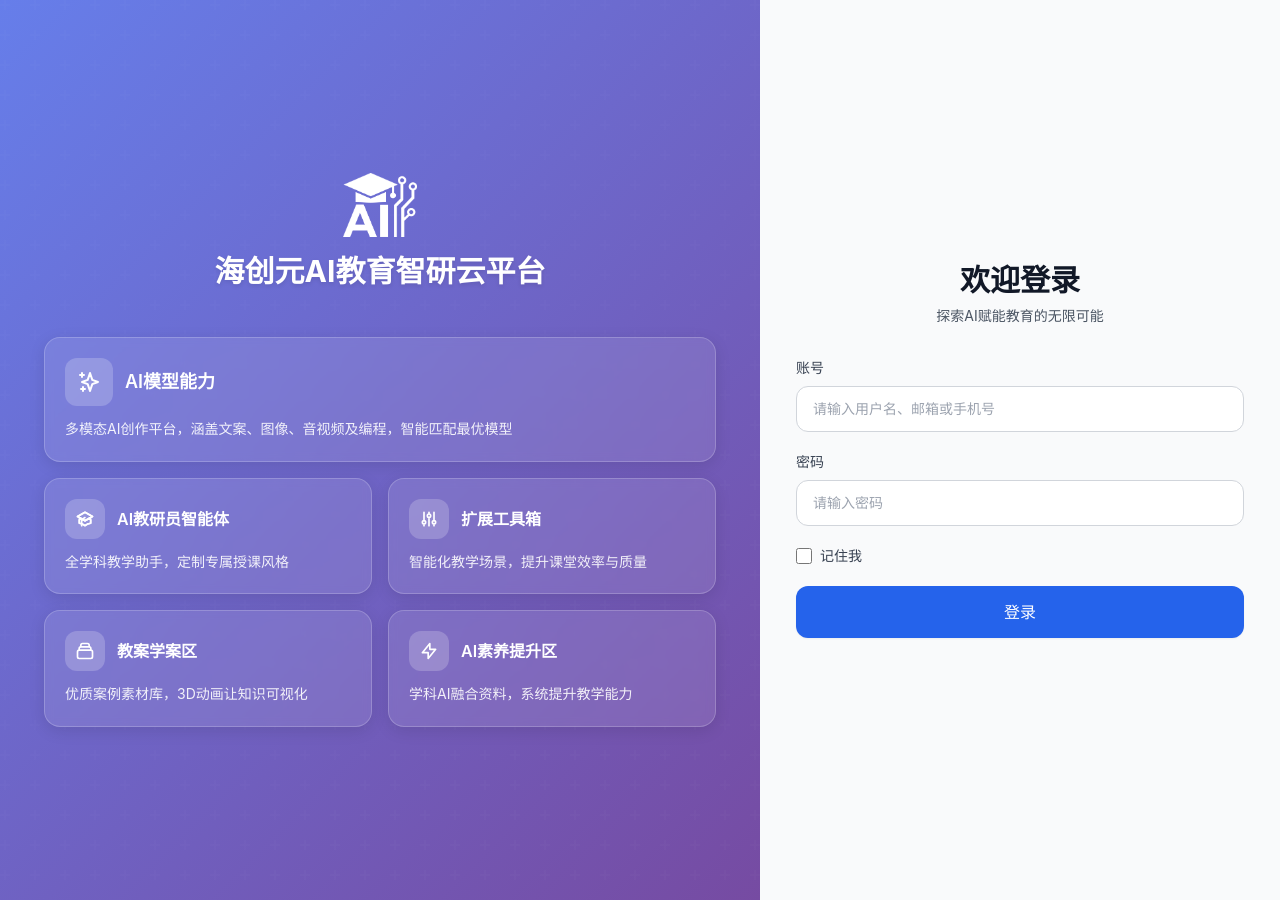
Scenario: LoginPage › 表单验证 - 密码 › 应该在密码少于6位时显示错误
Step 1. Type "12345" into the password field labelled "密码" → [1020, 503], box [796,480,1244,526]
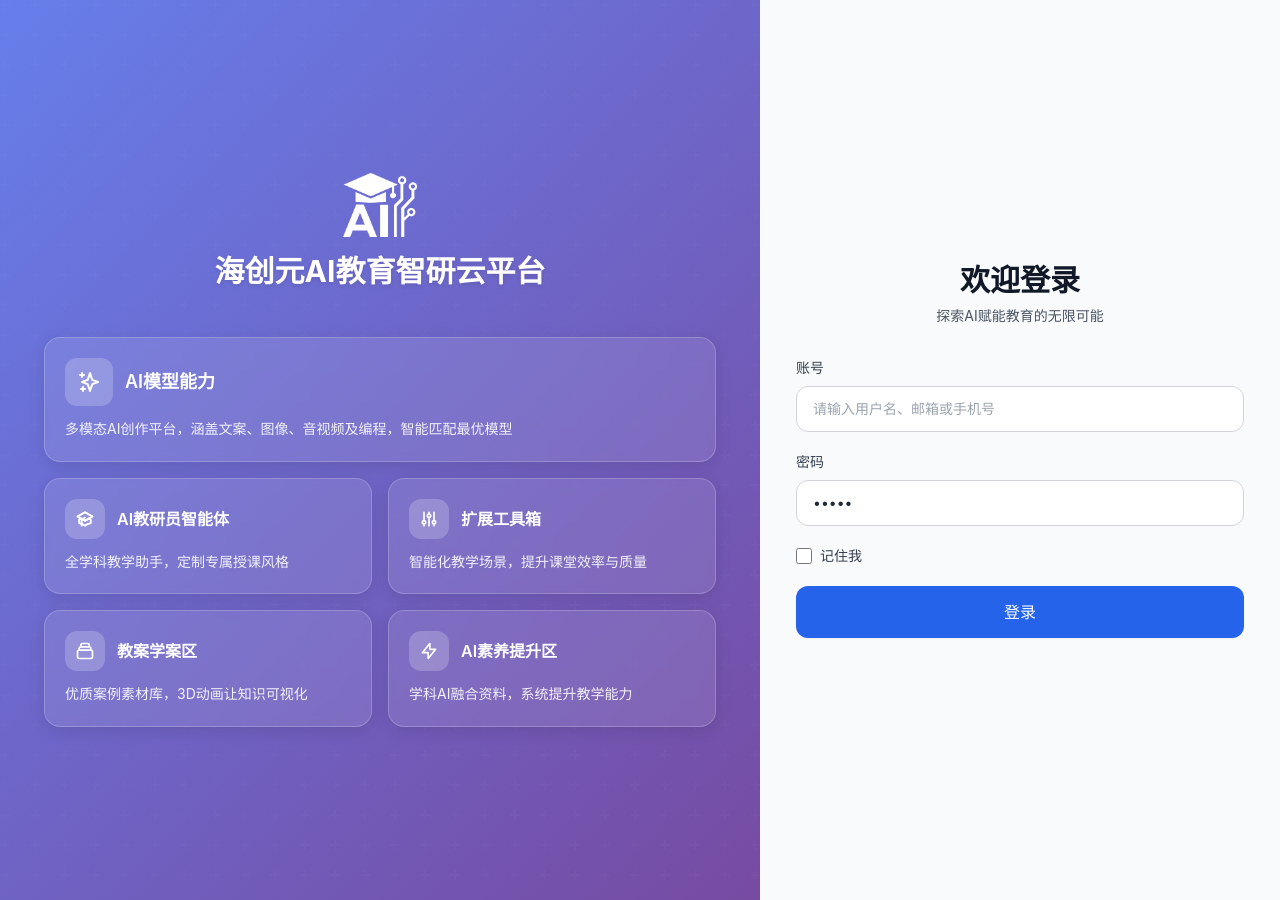
Step 2. Leave the password field labelled "密码", box [796,480,1244,526]
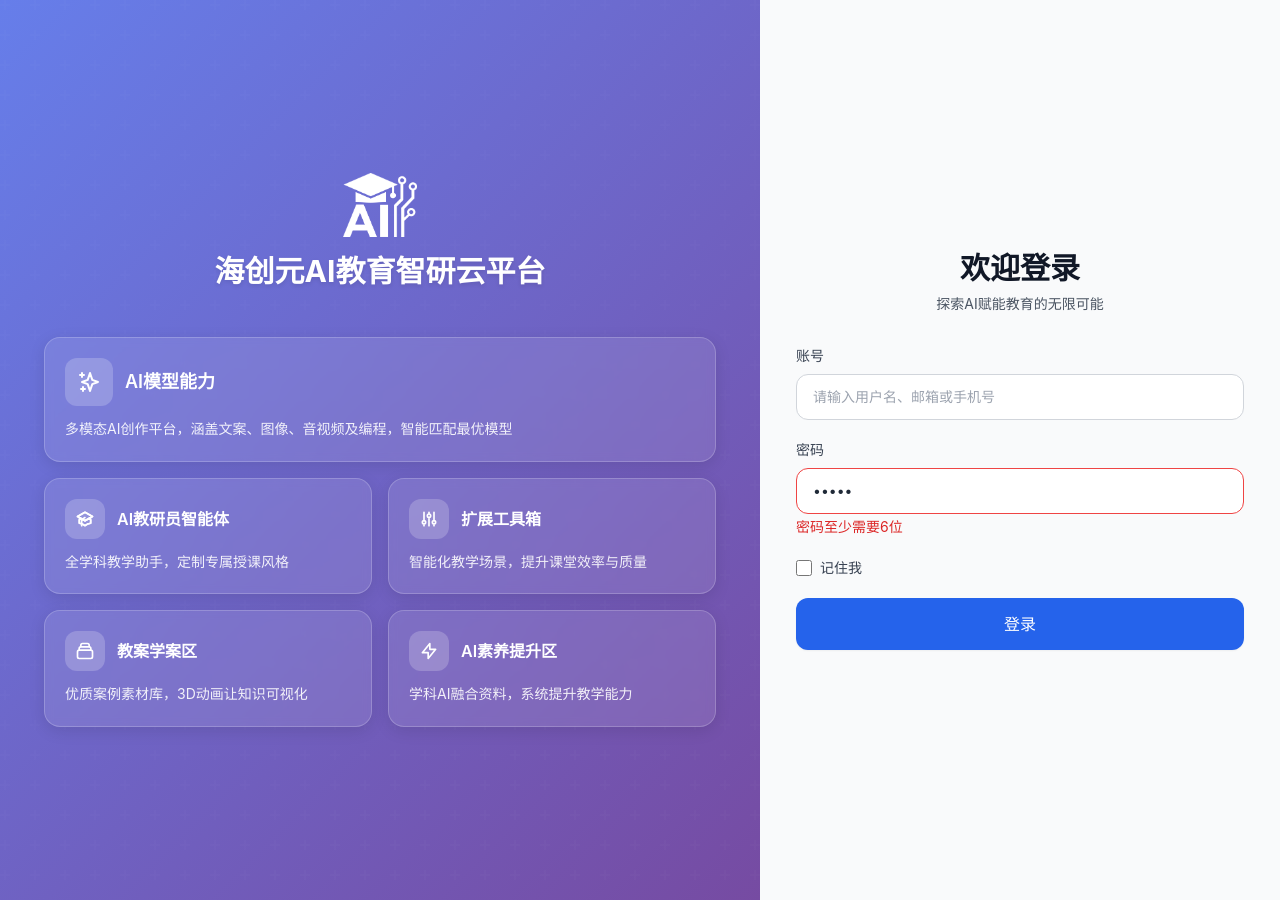
Expected: the text "密码至少需要6位" is shown, [796,518,903,535]
